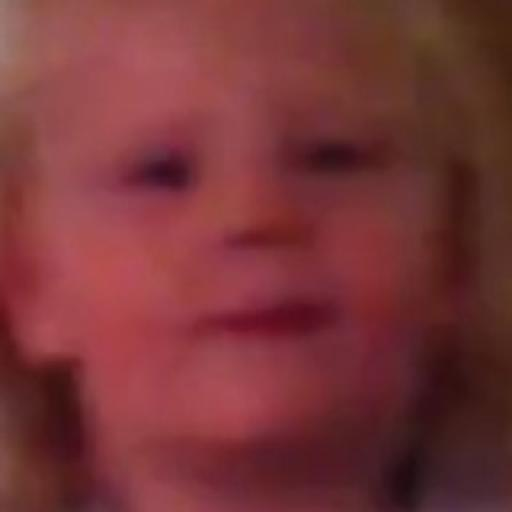Autism: (45, 9, 499, 481)
